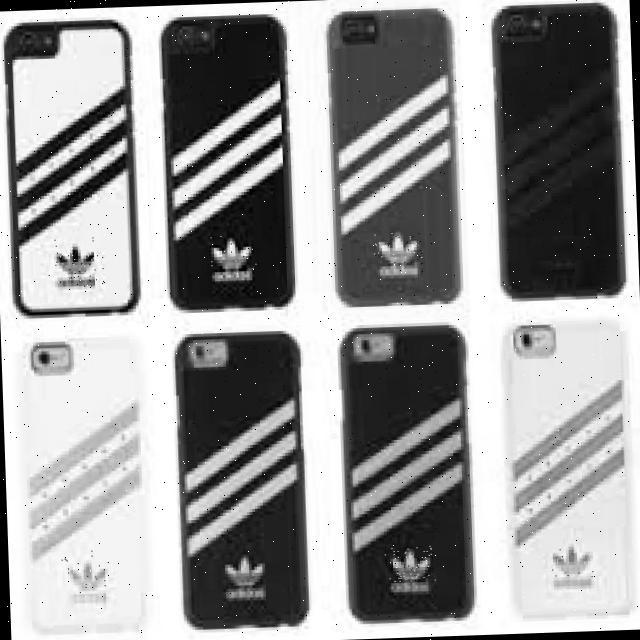Adidas: (45, 237, 105, 291), (61, 544, 117, 598), (219, 551, 276, 593), (384, 545, 435, 583), (373, 231, 422, 269), (208, 235, 259, 270), (549, 543, 596, 578)
